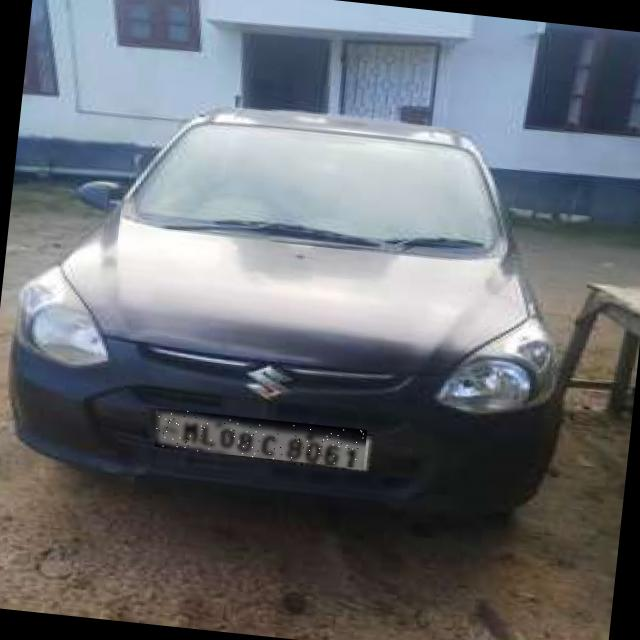Plate: (156, 409, 369, 470)
